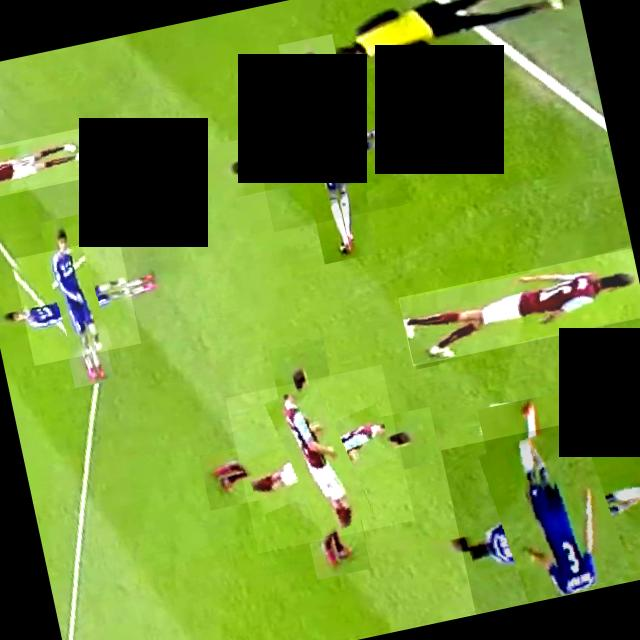soccer-player: (439, 409, 640, 614), (224, 364, 414, 554), (397, 248, 640, 366), (243, 66, 410, 232), (10, 237, 140, 366), (0, 125, 100, 202)
